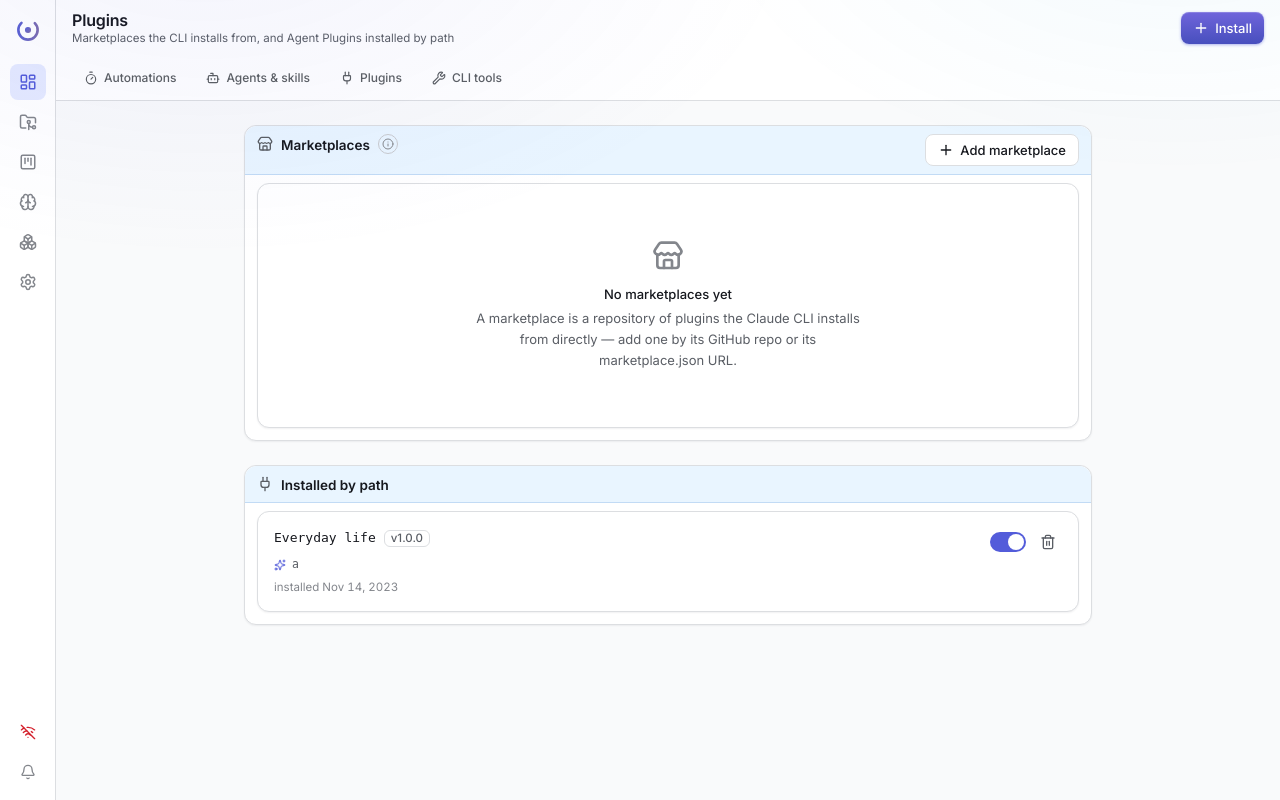
Scenario: installing › installs nothing until a path is given and confirmed
Expected: the text "Everyday life" is shown, [274,528,376,548]
Click the button "Install" at [1223, 28], box [1181,12,1264,44]
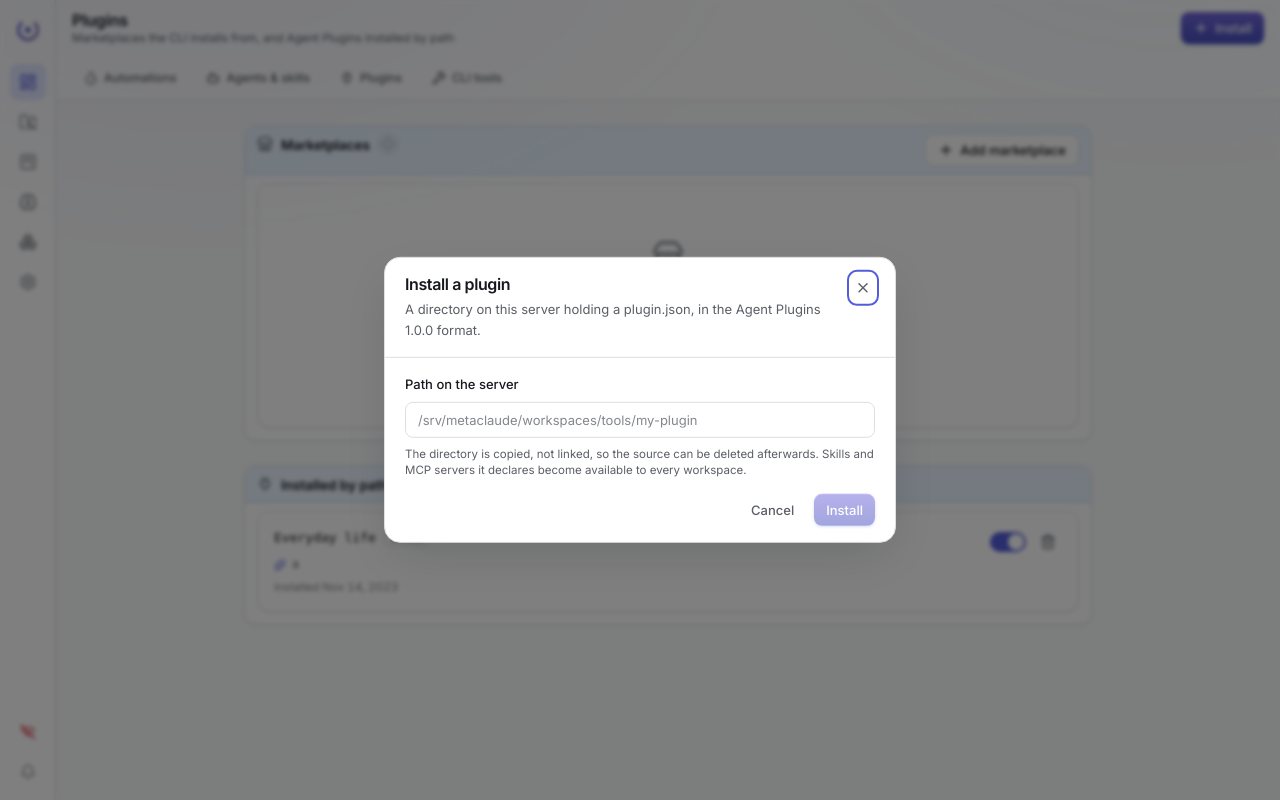
Expected: the dialog is shown, [384,257,896,543]
